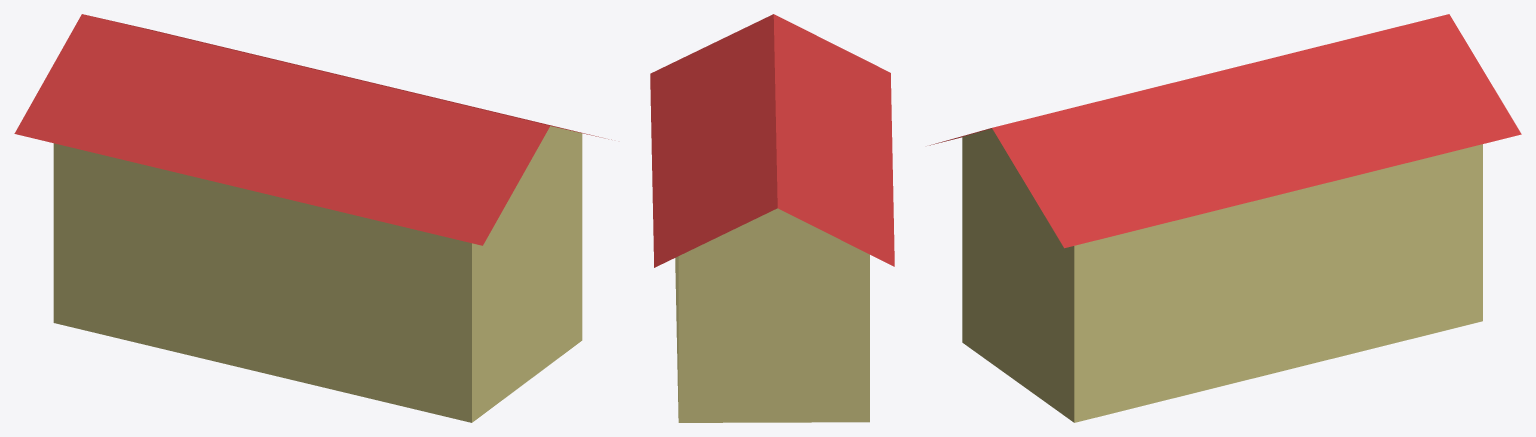
The picture shows the model from 3 angles, left to right: view 1: azimuth 30°, elevation 25°; view 2: azimuth 150°, elevation 25°; view 3: azimuth 270°, elevation 25°; orthographic projection. The views are drawn at different scales.
Size of the model in its own units: 13.41 by 15.78 by 7.55.
